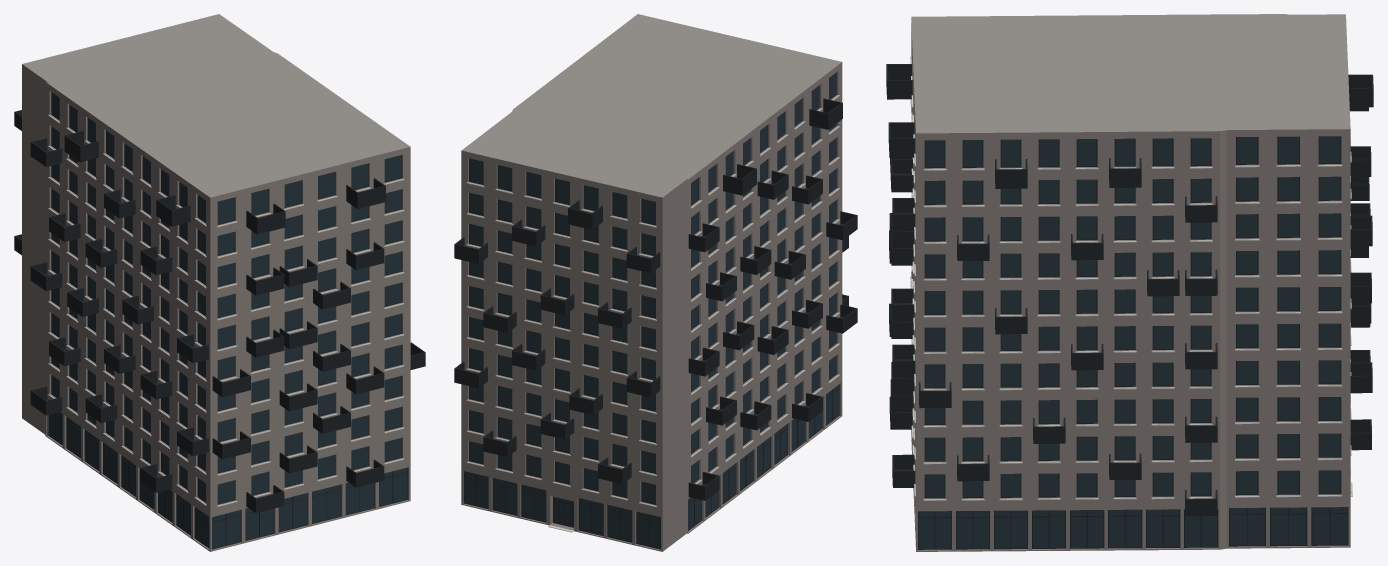
File: recipe-large-haarlemmerweg-778.glb
The picture shows the model from 3 angles, left to right: view 1: azimuth 30°, elevation 25°; view 2: azimuth 150°, elevation 25°; view 3: azimuth 270°, elevation 25°; orthographic projection. The views are drawn at different scales.
Parts seen in each view (by area): view 1: haarlemmerweg-778; view 2: haarlemmerweg-778; view 3: haarlemmerweg-778.
Part boxes in pixels (x1,y1,x2,y2): haarlemmerweg-778: (14,14,425,551); haarlemmerweg-778: (454,14,857,551); haarlemmerweg-778: (886,14,1373,551).
Size of the model in its own units: 26.16 by 36.46 by 38.47.
